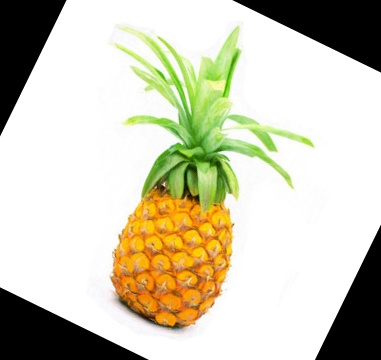Pineapple: (104, 27, 303, 332)
